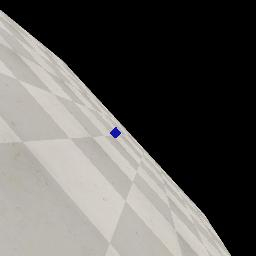box: (110, 127, 121, 138)
